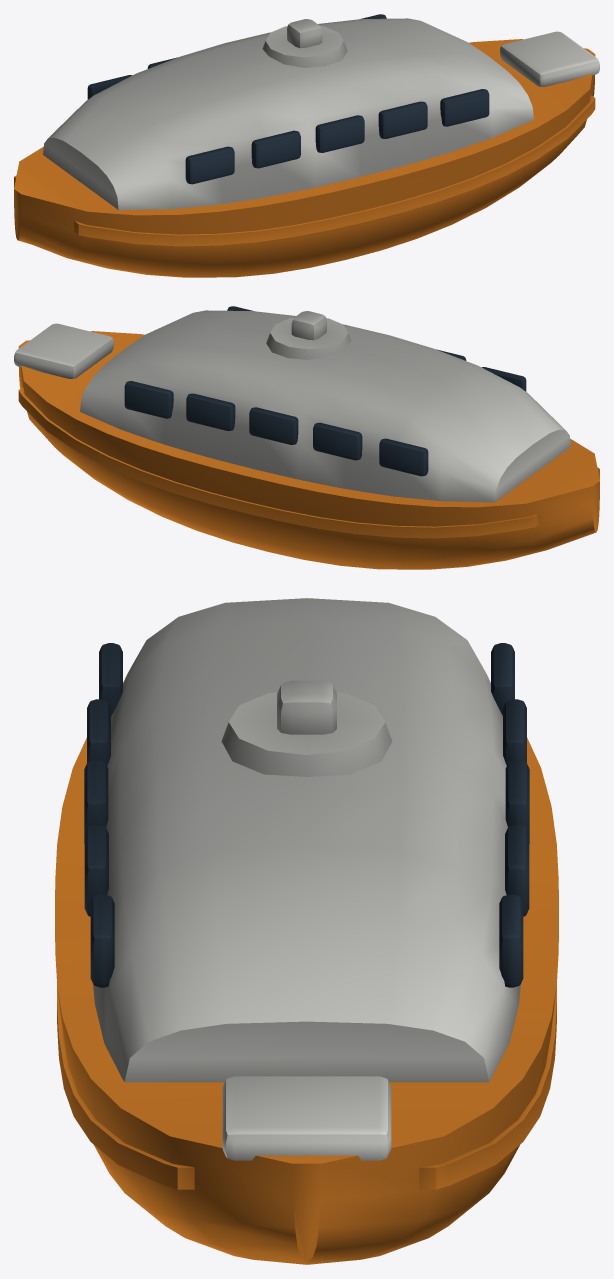
File: lifeboat-enclosed.glb
The picture shows the model from 3 angles, top to bottom: view 1: azimuth 30°, elevation 25°; view 2: azimuth 150°, elevation 25°; view 3: azimuth 270°, elevation 25°; orthographic projection. The views are drawn at different scales.
Visible parts, largest first — view 1: lifeboat, paint-f08a24, bridgeWindows; view 2: lifeboat, paint-f08a24, bridgeWindows; view 3: lifeboat, paint-f08a24, bridgeWindows.
Part boxes in pixels (bbox=[...]): lifeboat: bbox=[43, 18, 599, 210]; paint-f08a24: bbox=[14, 39, 595, 277]; bridgeWindows: bbox=[87, 14, 489, 184]; lifeboat: bbox=[14, 310, 570, 502]; paint-f08a24: bbox=[18, 331, 599, 569]; bridgeWindows: bbox=[124, 306, 526, 476]; lifeboat: bbox=[93, 598, 520, 1160]; paint-f08a24: bbox=[55, 737, 558, 1264]; bridgeWindows: bbox=[84, 643, 529, 987].
Bounding box in the file's own units: 1.1 × 0.4086 × 0.4182.
